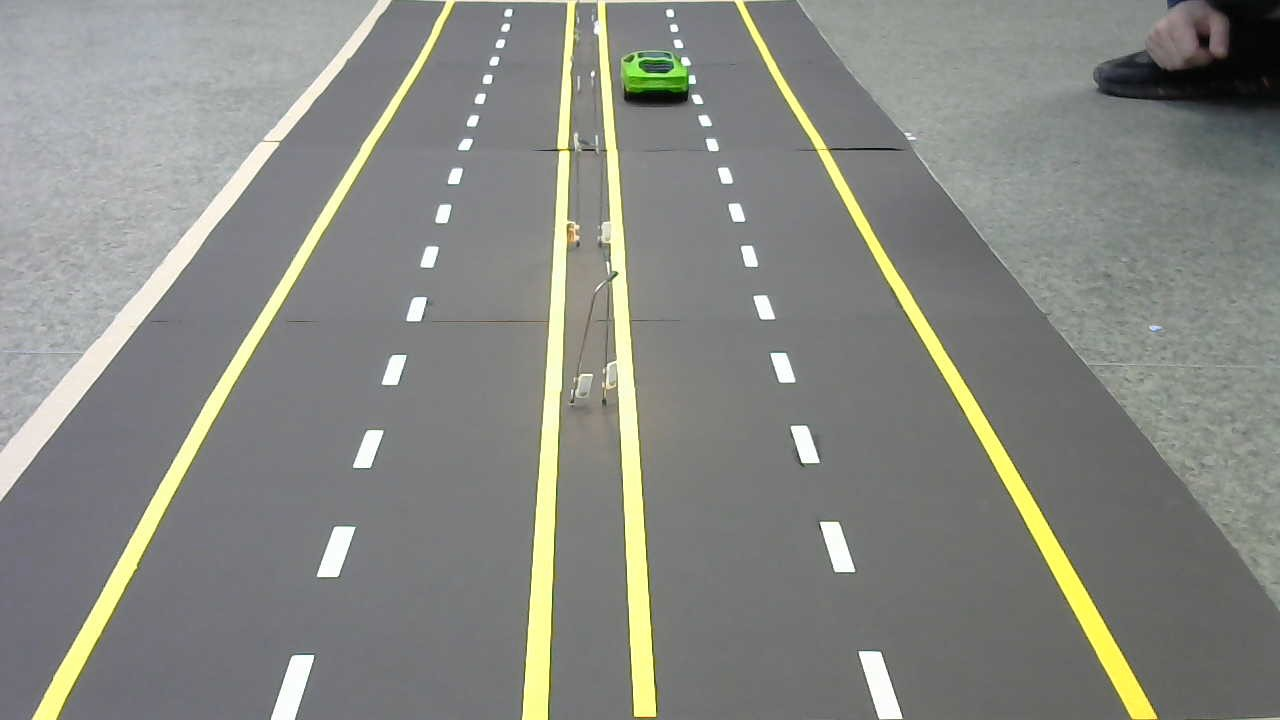back_car: (615, 49, 695, 102)
